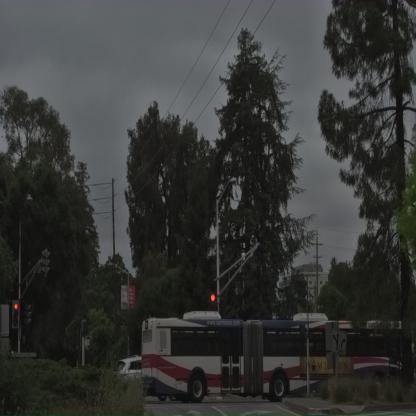bus: (136, 314, 408, 404)
